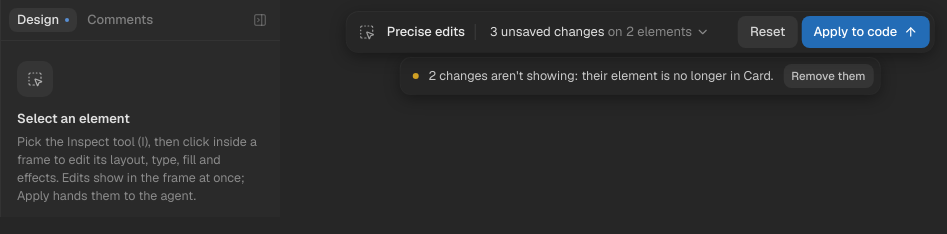
Test: says which edits aren't showing, and Remove them undoes those
Click the button "Remove them": (828, 76) [783, 64, 874, 88]
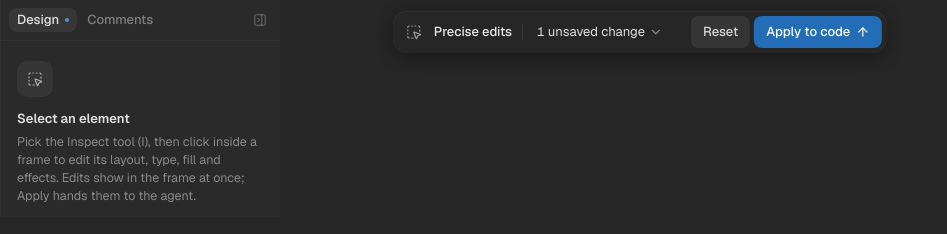
expect the element that starts with "Precise edits" shows "1 unsaved change": met
expect the text "showing" is gone: met
